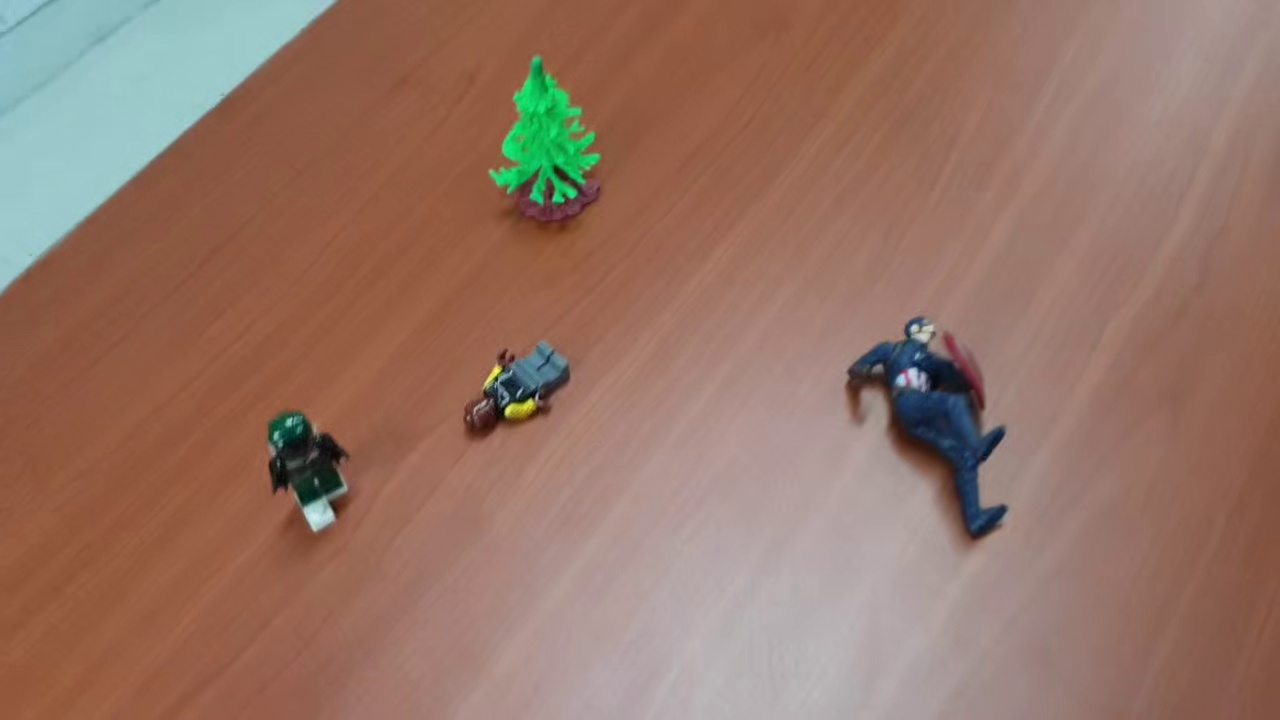people: (844, 312, 1020, 547), (263, 411, 355, 534), (456, 337, 569, 437)
tree: (487, 56, 609, 227)
